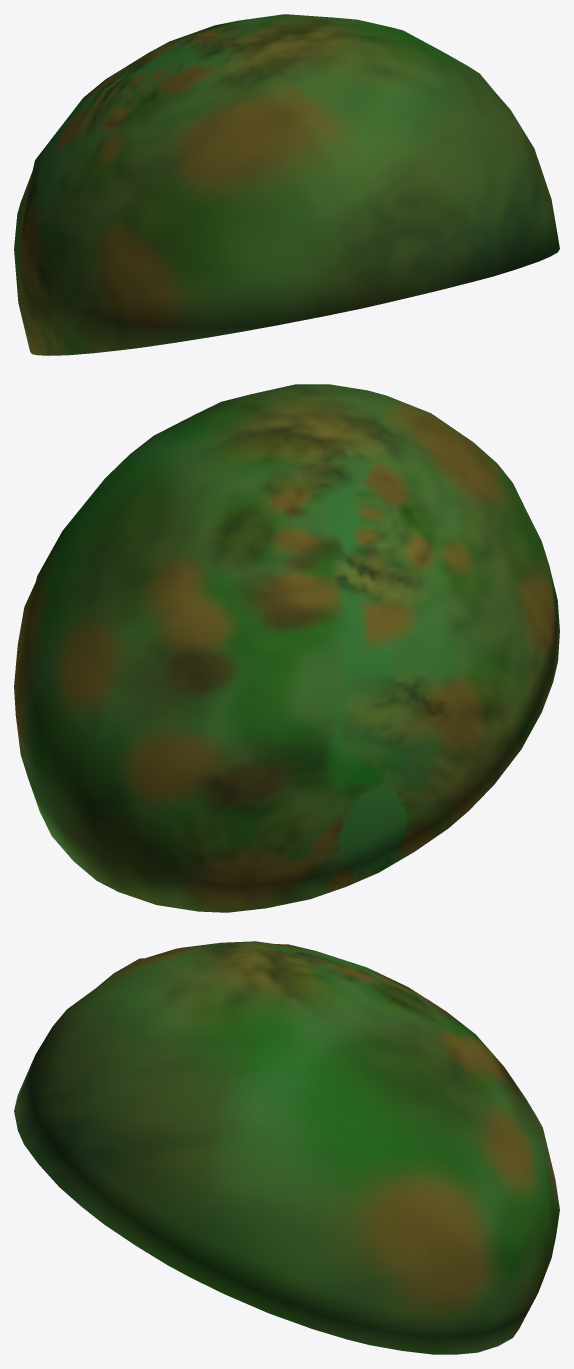
Rendered from Helmet_Army.fbx.
3 views of the same model, one above another, from view 1: azimuth 30°, elevation 25°; view 2: azimuth 150°, elevation 25°; view 3: azimuth 270°, elevation 25° (orthographic). The views are drawn at different scales.
Visible parts, largest first — view 1: Helm.003; view 2: Helm.003; view 3: Helm.003.
Boxes of the visible parts, x1=… form: Helm.003: x1=14, y1=14, x2=559, y2=355; Helm.003: x1=14, y1=384, x2=559, y2=912; Helm.003: x1=14, y1=941, x2=559, y2=1354.
Size of the model in its own units: 45.6 by 36.02 by 51.46.
